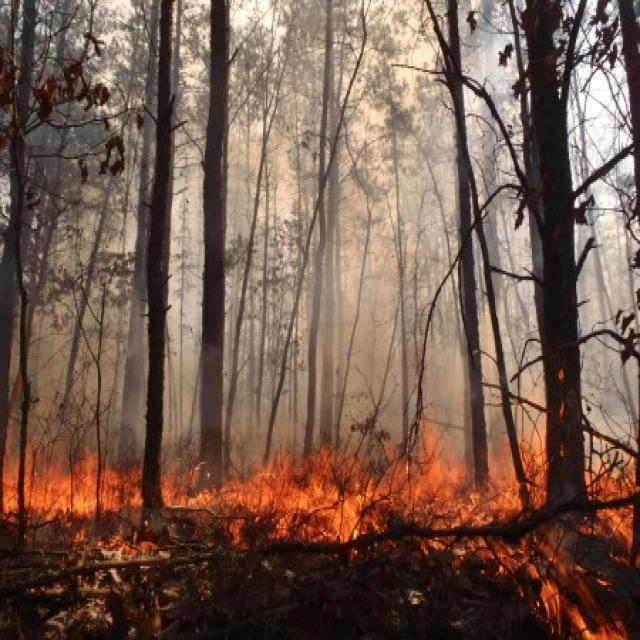Fire: (166, 448, 468, 546), (3, 454, 142, 516), (477, 442, 542, 511)
Smoke: (262, 121, 447, 368)
